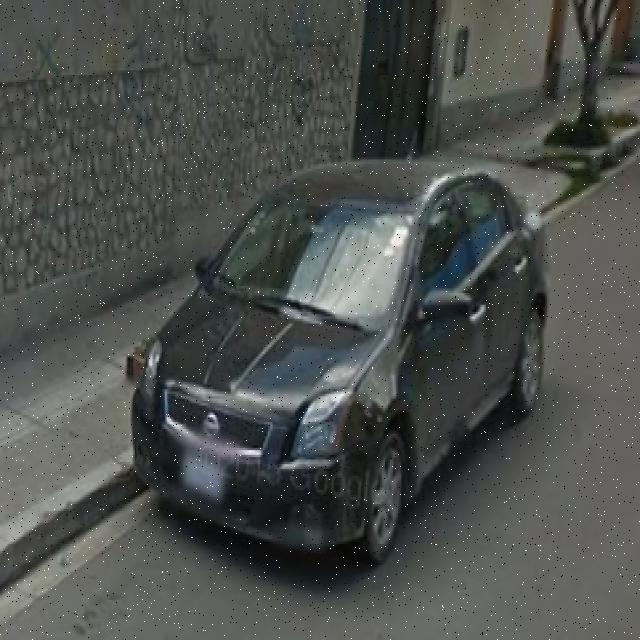cars: (136, 172, 558, 568)
